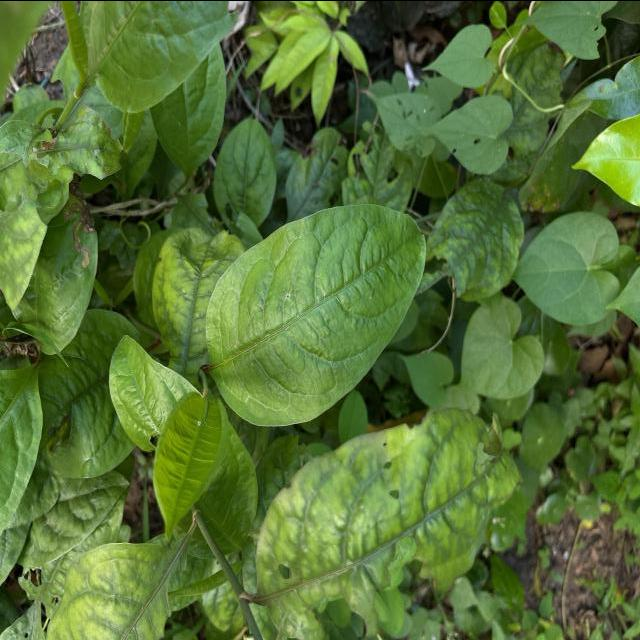Plumbago indica: (202, 199, 428, 434), (427, 174, 527, 304), (151, 384, 232, 542), (212, 114, 279, 224)
